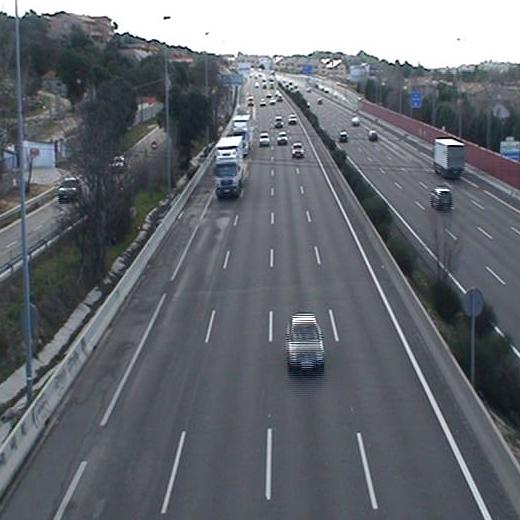car: (284, 313, 327, 373), (258, 132, 271, 147), (291, 142, 303, 158), (276, 131, 287, 145), (288, 113, 298, 125)
truck: (211, 137, 247, 198)
